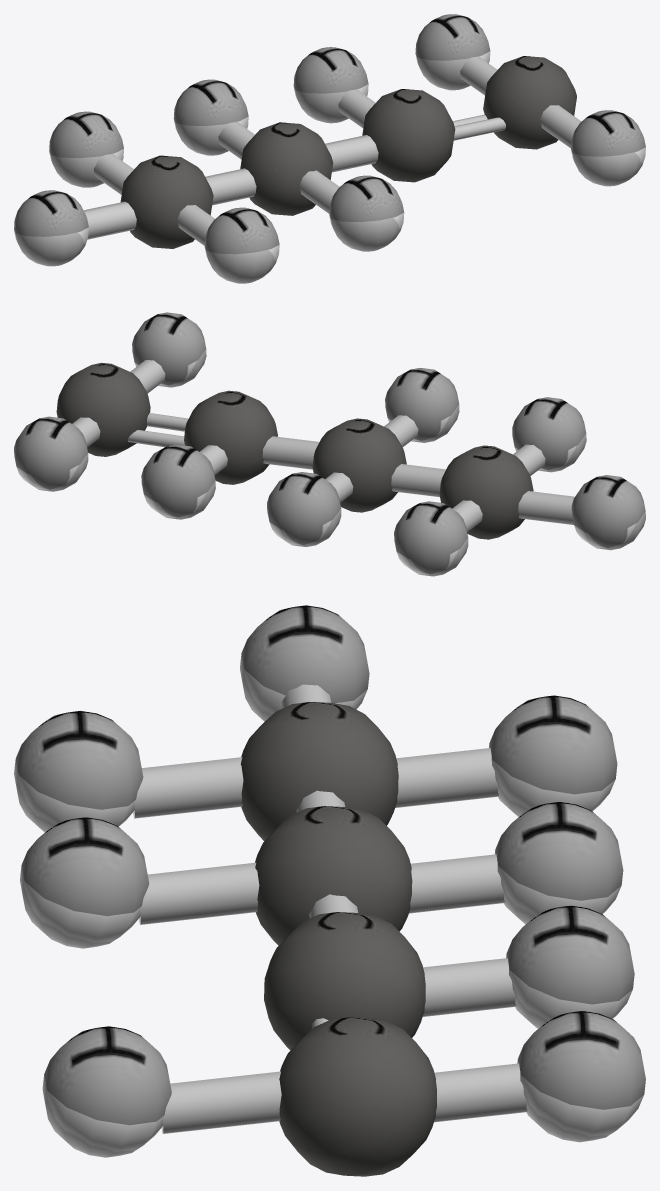
File: butene.fbx
The picture shows the model from 3 angles, top to bottom: view 1: azimuth 30°, elevation 25°; view 2: azimuth 150°, elevation 25°; view 3: azimuth 270°, elevation 25°; orthographic projection. The views are drawn at different scales.
Parts seen in each view (by area): view 1: butene_; view 2: butene_; view 3: butene_.
Boxes of the visible parts, <box> form: butene_: <box>14,14,645,283</box>; butene_: <box>14,312,645,576</box>; butene_: <box>14,605,645,1176</box>.
Size of the model in its own units: 59.78 by 8.58 by 33.47.
2 materials, 1 textured.
